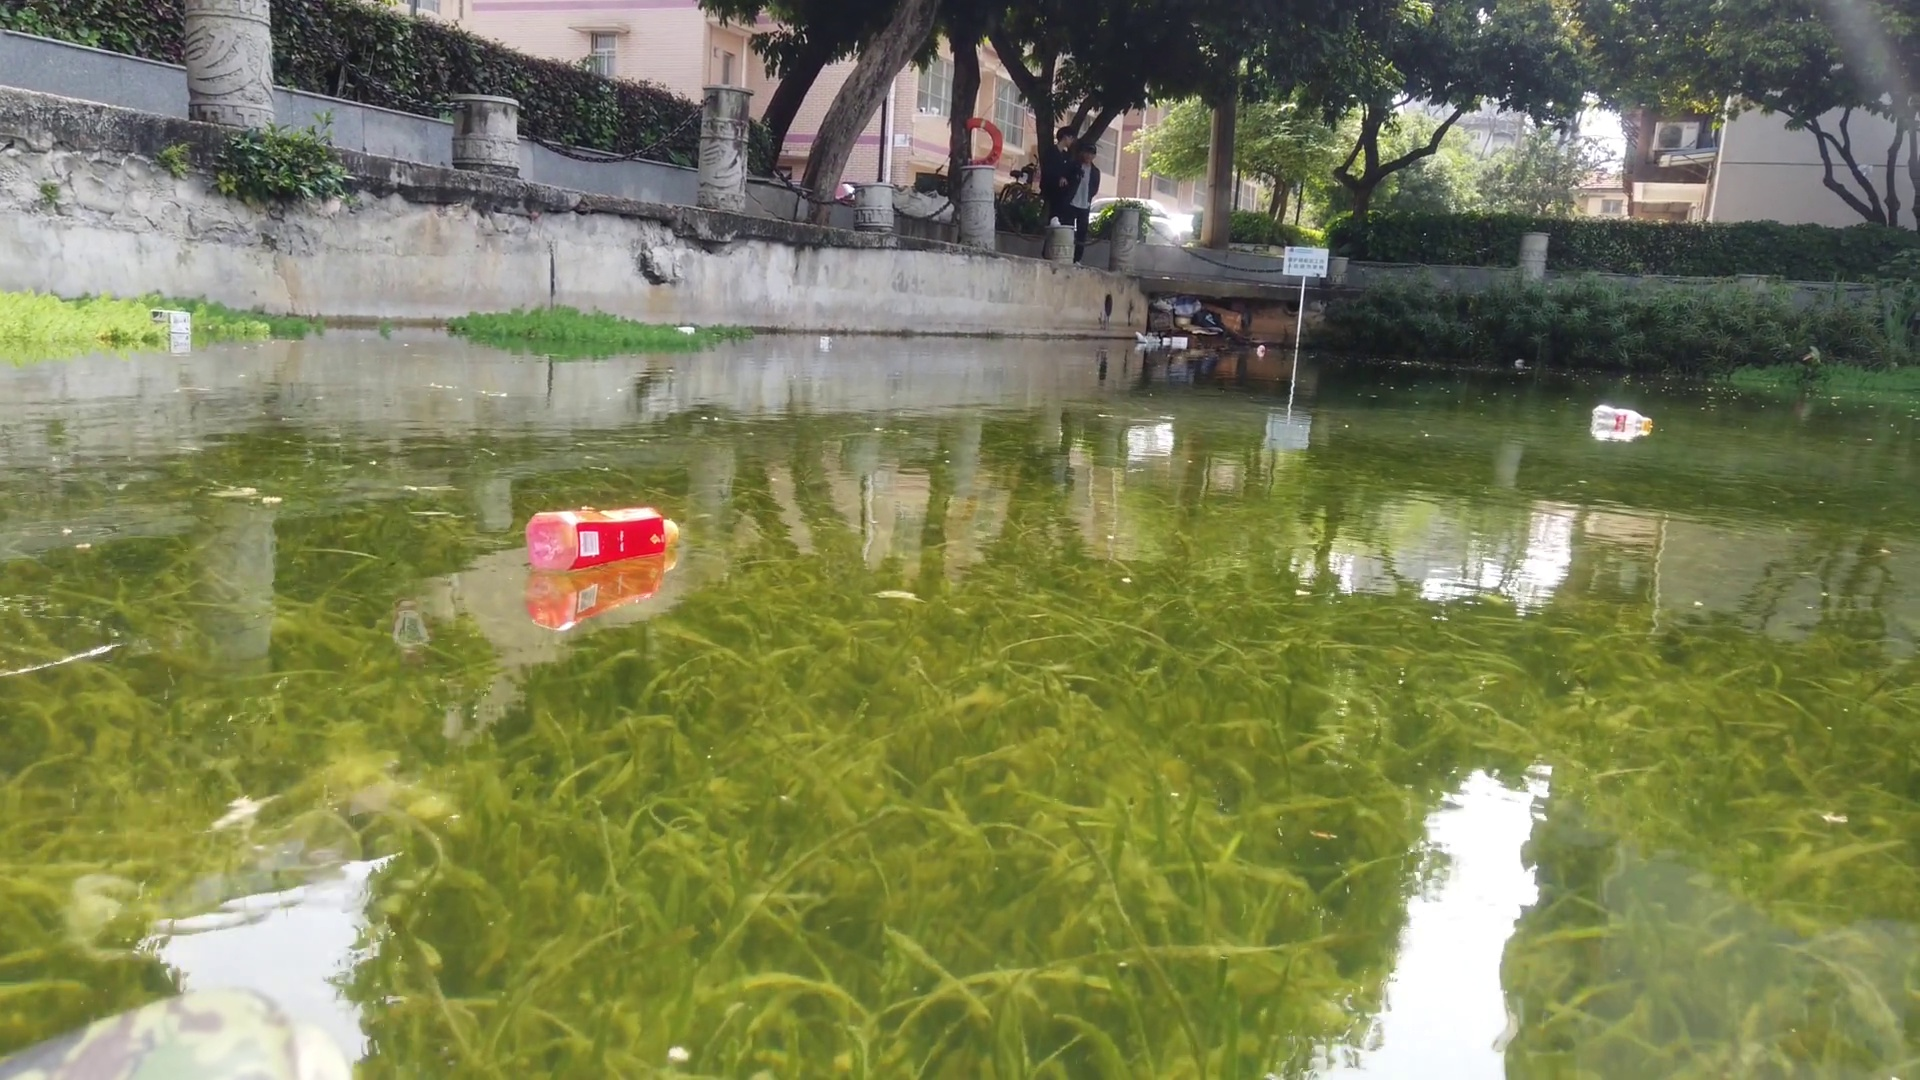bottle: (517, 502, 679, 571), (1585, 402, 1655, 433), (1253, 342, 1267, 356), (1514, 355, 1527, 369)
carton: (146, 305, 195, 334), (673, 324, 699, 340), (818, 335, 835, 349), (1168, 338, 1187, 347), (1160, 334, 1168, 343)
plastic: (1126, 330, 1163, 347)
